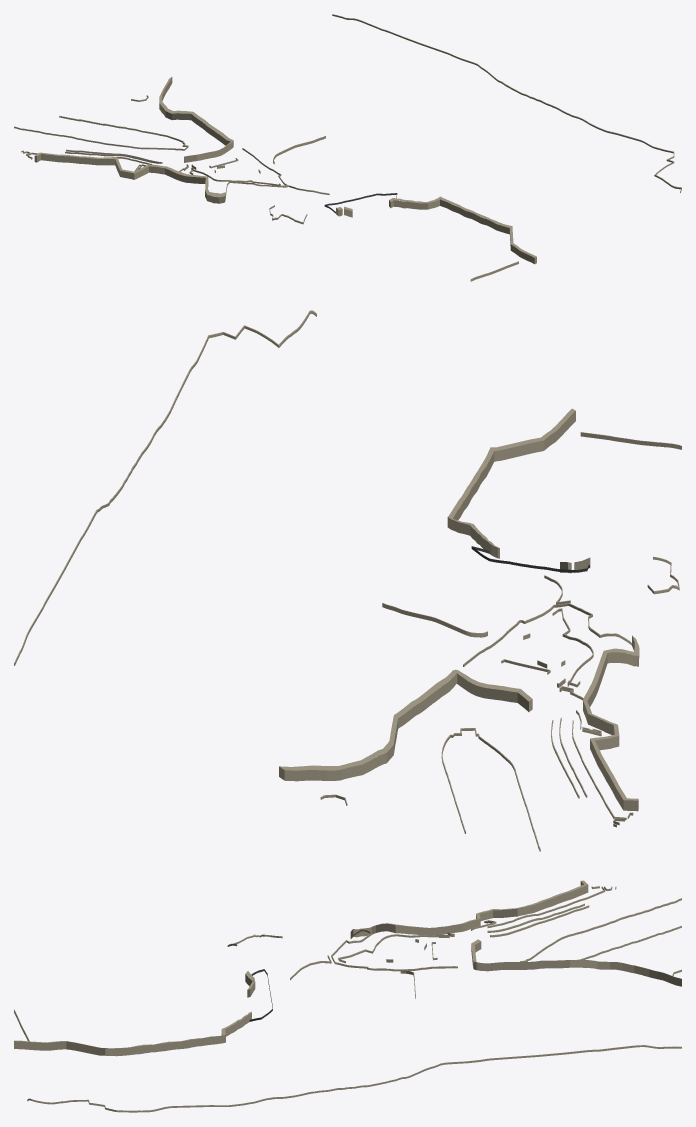
File: walls.glb
3 renders of one model, top to bottom at view 1: azimuth 30°, elevation 25°; view 2: azimuth 150°, elevation 25°; view 3: azimuth 270°, elevation 25°, orthographic. The views are drawn at different scales.
Parts seen in each view (by area): view 1: T_W1_S2_walls; view 2: T_W1_S2_walls; view 3: T_W1_S2_walls.
Boxes of the visible parts, left/top/right/bottom form: T_W1_S2_walls: left=14, top=14, right=681, bottom=281; T_W1_S2_walls: left=14, top=310, right=681, bottom=851; T_W1_S2_walls: left=14, top=880, right=681, bottom=1112.
Size of the model in its own units: 479 by 47.97 by 500.
